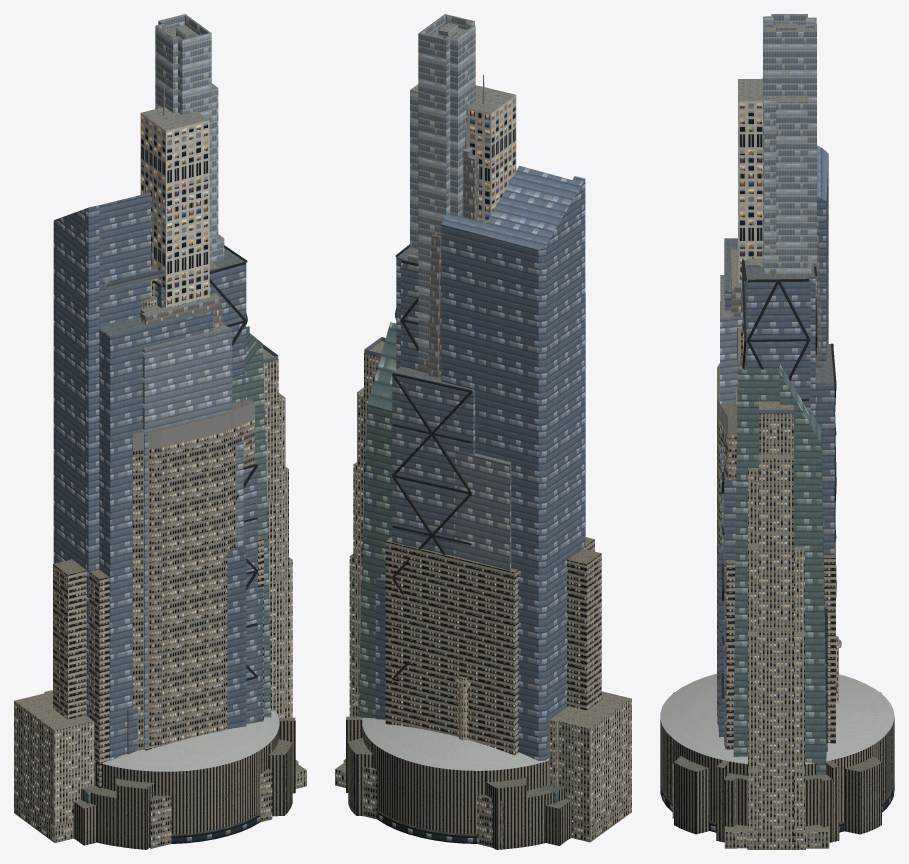
Rendered from landmarks4.glb.
3 renders of one model, left to right at view 1: azimuth 30°, elevation 25°; view 2: azimuth 150°, elevation 25°; view 3: azimuth 270°, elevation 25°, orthographic. The views are drawn at different scales.
Visible parts, largest first — view 1: hudson_yards_30, metlife, madison_square_garden, rockefeller_30, park_432, wtc_4, marriott_marquis, central_park_tower, wtc_3, bank_of_america_tower, times_square_4, one_vanderbilt (+1 smaller); view 2: hudson_yards_30, marriott_marquis, madison_square_garden, wtc_3, rockefeller_30, central_park_tower, bank_of_america_tower, wtc_7, park_432, one_vanderbilt, metlife, flatiron; view 3: rockefeller_30, madison_square_garden, bank_of_america_tower, central_park_tower, wtc_3, park_432, marriott_marquis, hudson_yards_30, metlife, wtc_4, one_vanderbilt, times_square_4.
Boxes of the visible parts, left/top/right/bottom form: hudson_yards_30: left=53, top=192, right=263, bottom=760; metlife: left=133, top=399, right=272, bottom=848; madison_square_garden: left=73, top=710, right=295, bottom=849; rockefeller_30: left=14, top=344, right=306, bottom=842; park_432: left=140, top=107, right=209, bottom=308; wtc_4: left=142, top=324, right=232, bottom=747; marriott_marquis: left=53, top=536, right=263, bottom=788; central_park_tower: left=155, top=14, right=224, bottom=262; wtc_3: left=127, top=245, right=258, bottom=754; bank_of_america_tower: left=83, top=326, right=271, bottom=803; times_square_4: left=227, top=545, right=246, bottom=729; one_vanderbilt: left=139, top=242, right=222, bottom=327; hudson_yards_30: left=375, top=166, right=585, bottom=760; marriott_marquis: left=385, top=537, right=601, bottom=755; madison_square_garden: left=346, top=716, right=571, bottom=849; wtc_3: left=392, top=244, right=475, bottom=681; rockefeller_30: left=335, top=337, right=631, bottom=842; central_park_tower: left=408, top=14, right=475, bottom=360; bank_of_america_tower: left=359, top=322, right=562, bottom=803; wtc_7: left=455, top=451, right=511, bottom=570; park_432: left=466, top=85, right=516, bottom=222; one_vanderbilt: left=417, top=121, right=478, bottom=377; metlife: left=363, top=767, right=503, bottom=849; flatiron: left=455, top=675, right=470, bottom=740; rockefeller_30: left=724, top=397, right=829, bottom=849; madison_square_garden: left=660, top=674, right=894, bottom=842; bank_of_america_tower: left=733, top=364, right=826, bottom=774; central_park_tower: left=763, top=14, right=816, bottom=349; wtc_3: left=721, top=259, right=836, bottom=745; park_432: left=738, top=78, right=762, bottom=283; marriott_marquis: left=726, top=509, right=835, bottom=750; hudson_yards_30: left=724, top=145, right=828, bottom=751; metlife: left=672, top=363, right=737, bottom=818; wtc_4: left=720, top=275, right=821, bottom=545; one_vanderbilt: left=730, top=221, right=821, bottom=387; times_square_4: left=718, top=543, right=723, bottom=737.
Bounding box in the file's own units: 163 × 472 × 129.
Materials: 16 (16 with a texture image).
